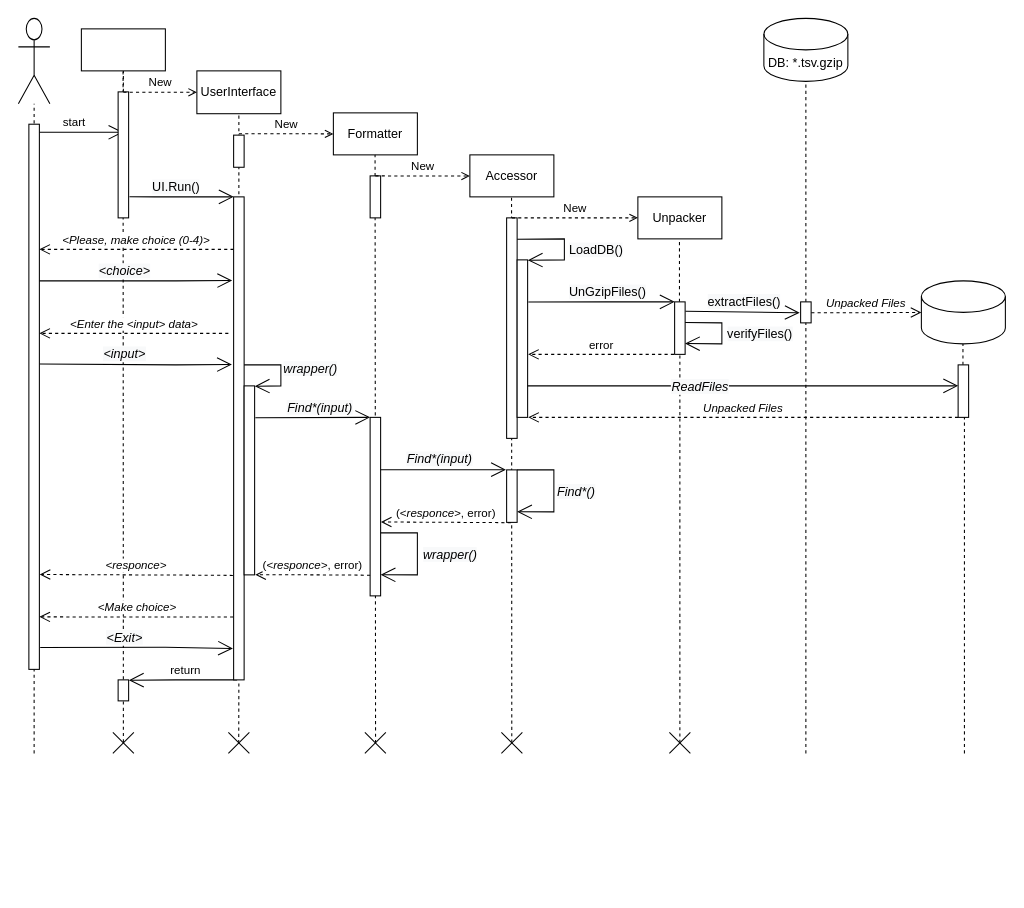
Image size: 1024x908. Some labels were removed from this diagram. The shapes that lost their labels are listed below. From the top down, each one's box as (x1, y1, x2, y2) in pixels, then its label:
(80, 28, 165, 71): Application
(920, 280, 1005, 344): DB: *.tsv
